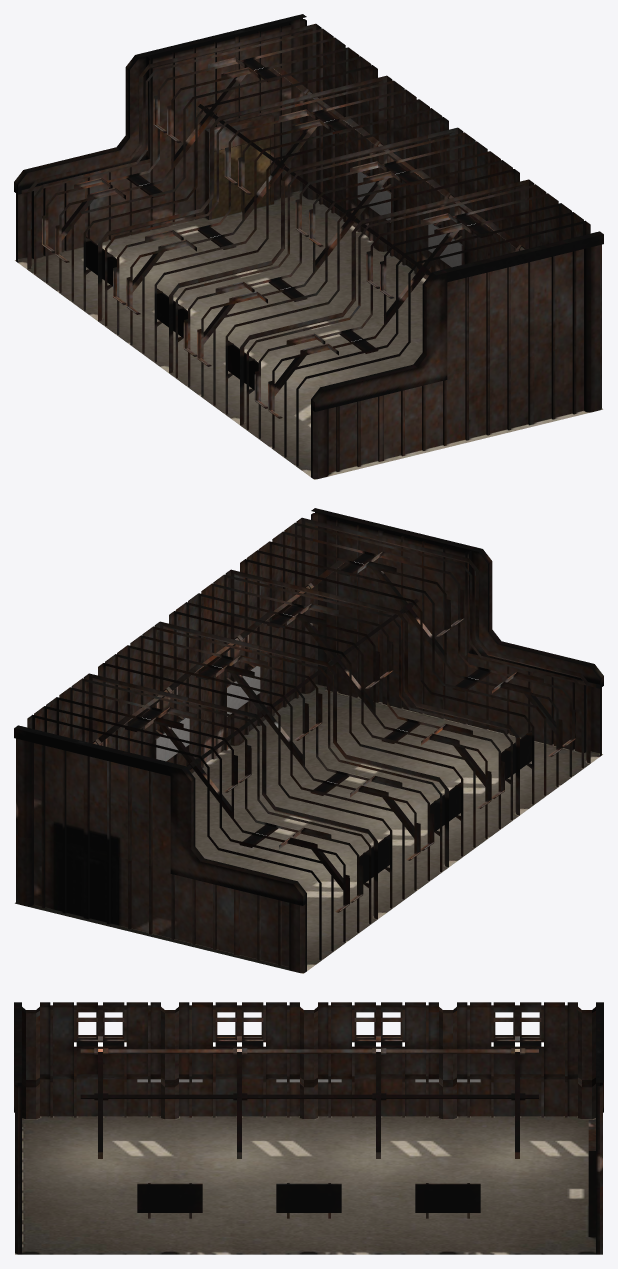
Rendered from metal_gallery.glb.
3 views of the same model, one above another, from view 1: azimuth 30°, elevation 25°; view 2: azimuth 150°, elevation 25°; view 3: azimuth 270°, elevation 25° (orthographic). The views are drawn at different scales.
Visible parts, largest first — view 1: Object_2, Object_3; view 2: Object_2, Object_3; view 3: Object_2, Object_3.
Part boxes in pixels (<box>): Object_2: <box>15,23,602,479</box>; Object_3: <box>14,14,603,478</box>; Object_2: <box>15,517,602,973</box>; Object_3: <box>14,508,603,972</box>; Object_2: <box>15,1002,602,1254</box>; Object_3: <box>14,1002,603,1254</box>.
Size of the model in its own units: 9.62 by 5.65 by 17.06.
1 material, 1 textured.
